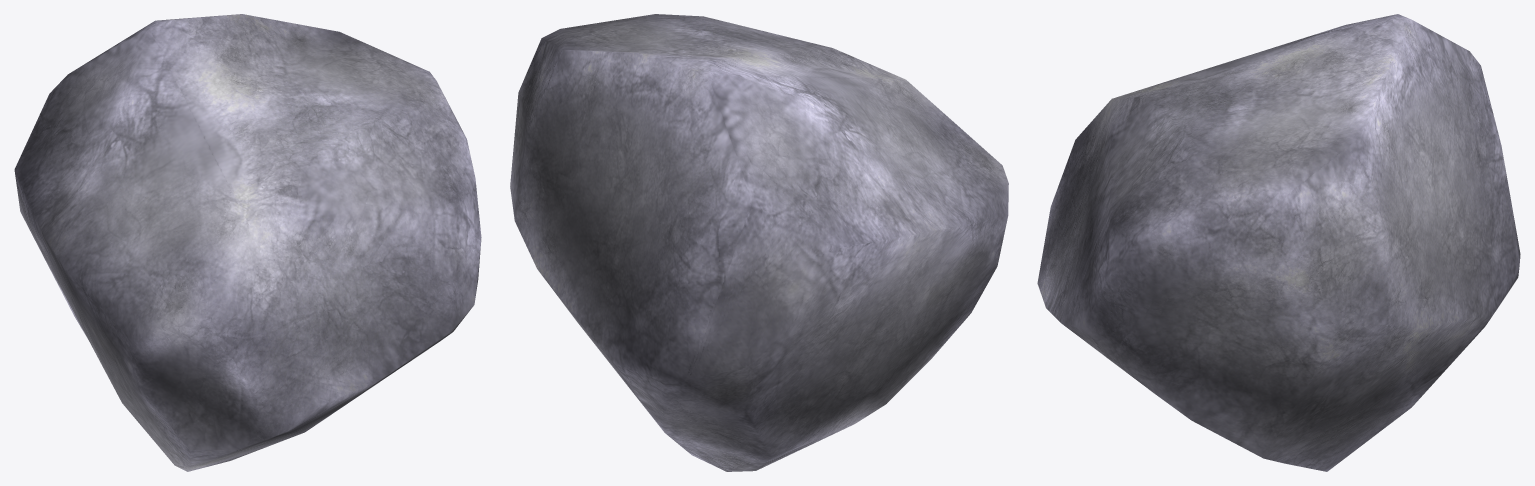
The model's file is rock1.fbx.
3 views of the same model, side by side, from view 1: azimuth 30°, elevation 25°; view 2: azimuth 150°, elevation 25°; view 3: azimuth 270°, elevation 25° (orthographic). The views are drawn at different scales.
Parts seen in each view (by area): view 1: Icosphere.001; view 2: Icosphere.001; view 3: Icosphere.001.
Part boxes in pixels (x1,y1,x2,y2): Icosphere.001: (14, 14, 481, 471); Icosphere.001: (510, 14, 1008, 471); Icosphere.001: (1037, 14, 1520, 471).
Bounding box in the file's own units: 177 × 178 × 179.
